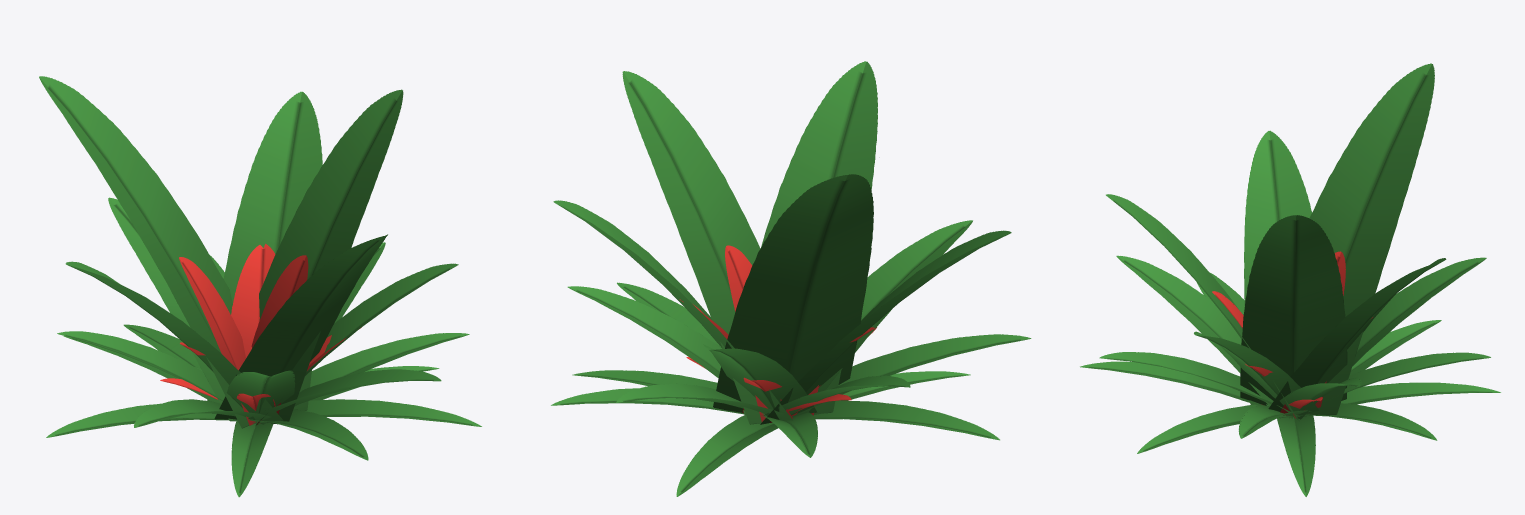
Rendered from guzmania-lingulata.glb.
3 views of the same model, side by side, from view 1: azimuth 30°, elevation 25°; view 2: azimuth 150°, elevation 25°; view 3: azimuth 270°, elevation 25° (orthographic). The views are drawn at different scales.
Visible parts, largest first — view 1: folhas, centro; view 2: folhas, centro; view 3: folhas, centro.
Boxes of the visible parts, left/top/right/bottom form: folhas: left=39, top=76, right=481, bottom=497; centro: left=160, top=243, right=361, bottom=425; folhas: left=551, top=61, right=1031, bottom=496; centro: left=679, top=245, right=876, bottom=422; folhas: left=1080, top=63, right=1500, bottom=496; centro: left=1212, top=251, right=1372, bottom=418.
Size of the model in its own units: 0.4897 by 0.4 by 0.5.
2 materials, 2 textured.
